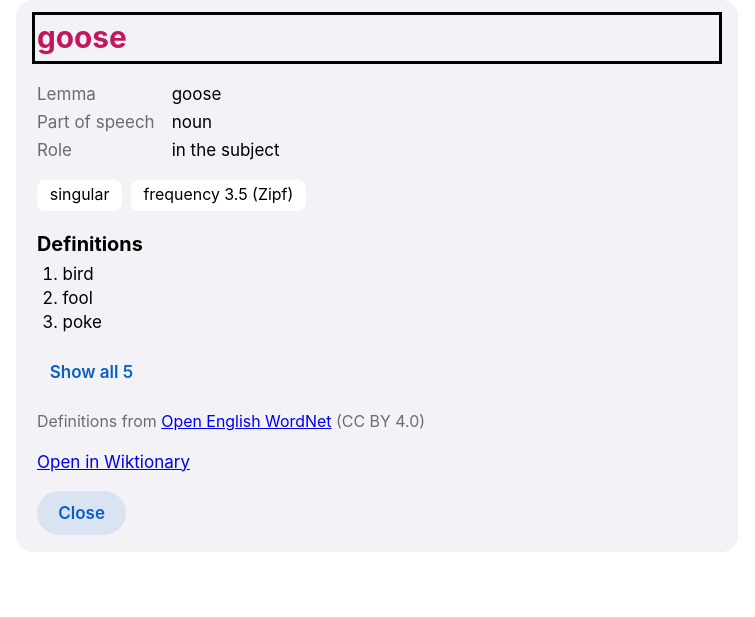
Test case: WordCard › shows three definitions, then all of them on request
This screenshot has width=755, height=617.
Expected: the list item "poke" is shown, [62, 312, 102, 332]
Expected: the link "Open English WordNet" is shown, [161, 412, 332, 431]
Click the button "Show all 5" at (92, 373), box [37, 351, 146, 395]
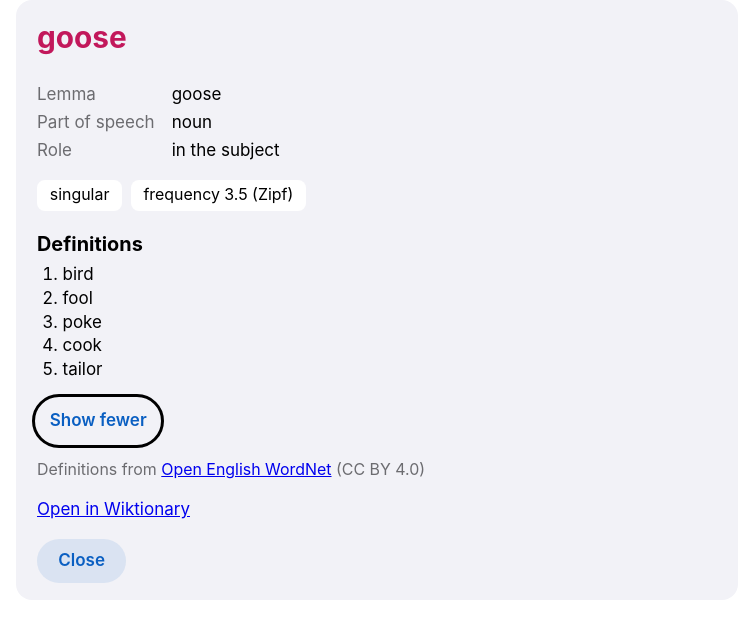
Expected: the list item "tailor" is shown, [62, 359, 102, 379]
